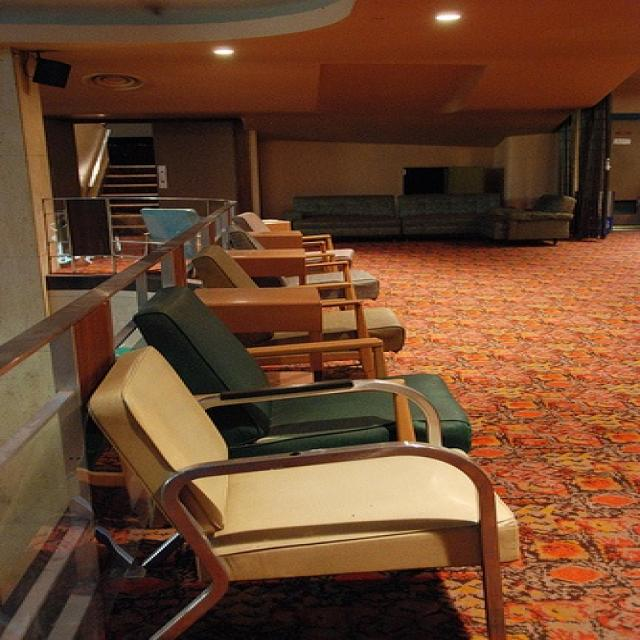chair: (86, 342, 523, 638), (136, 284, 477, 453), (193, 243, 404, 351), (220, 226, 352, 268), (488, 192, 578, 244), (230, 211, 335, 250)
sofa: (282, 195, 502, 243)
